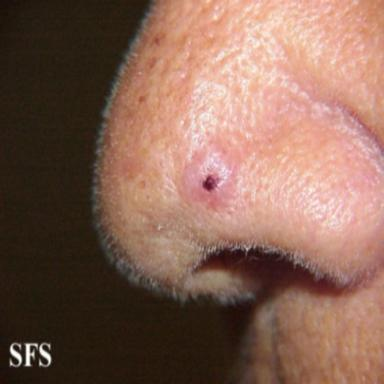basal-cell-carcinoma: (182, 145, 233, 209)
